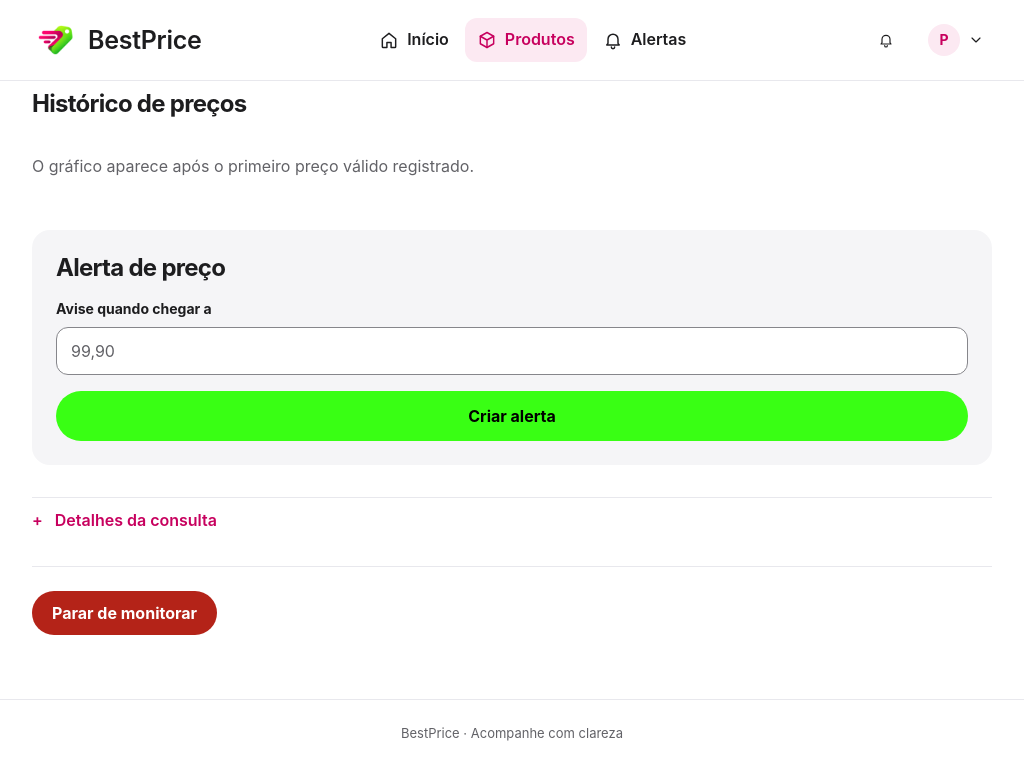
Test: confirma interrupção no detalhe e leva a Produtos com foco na lista
This screenshot has width=1024, height=768.
(page scrolled)
Click the button "Parar de monitorar".
click(125, 613)  # box [32,591,217,635]
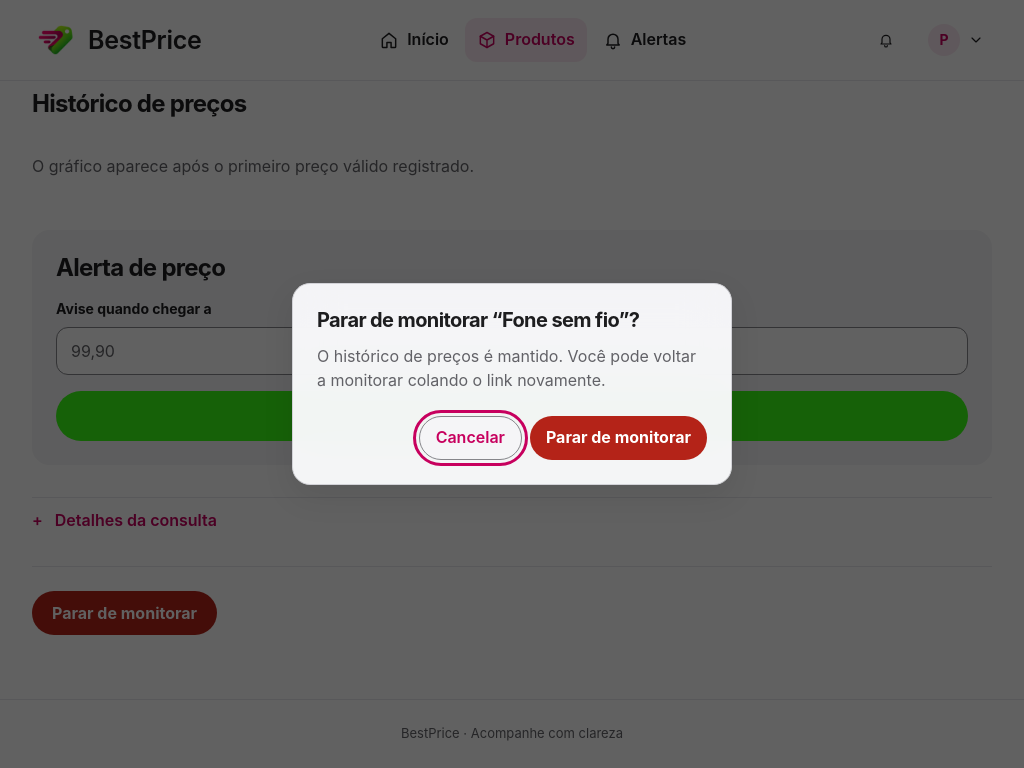
expect the dialog shows "Parar de monitorar “Fone sem fio”?": met, box [292,283,732,485]
Click the button "Cancelar".
click(470, 438)  # box [419,416,522,460]
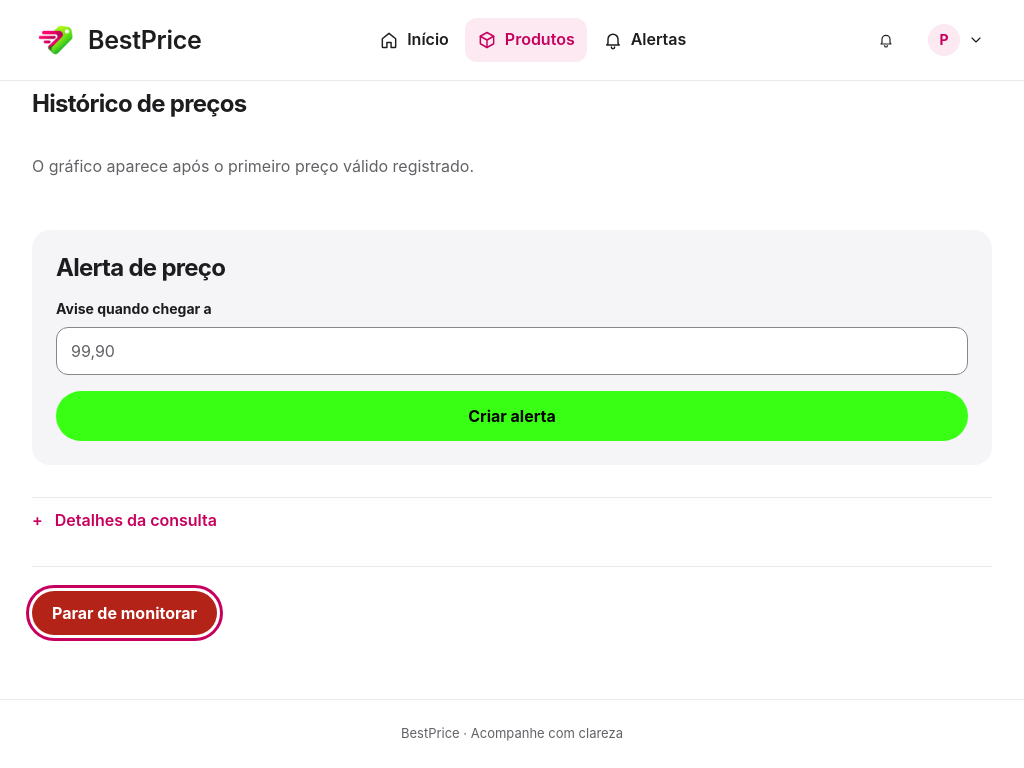
Click the button "Parar de monitorar".
click(125, 613)  # box [32,591,217,635]
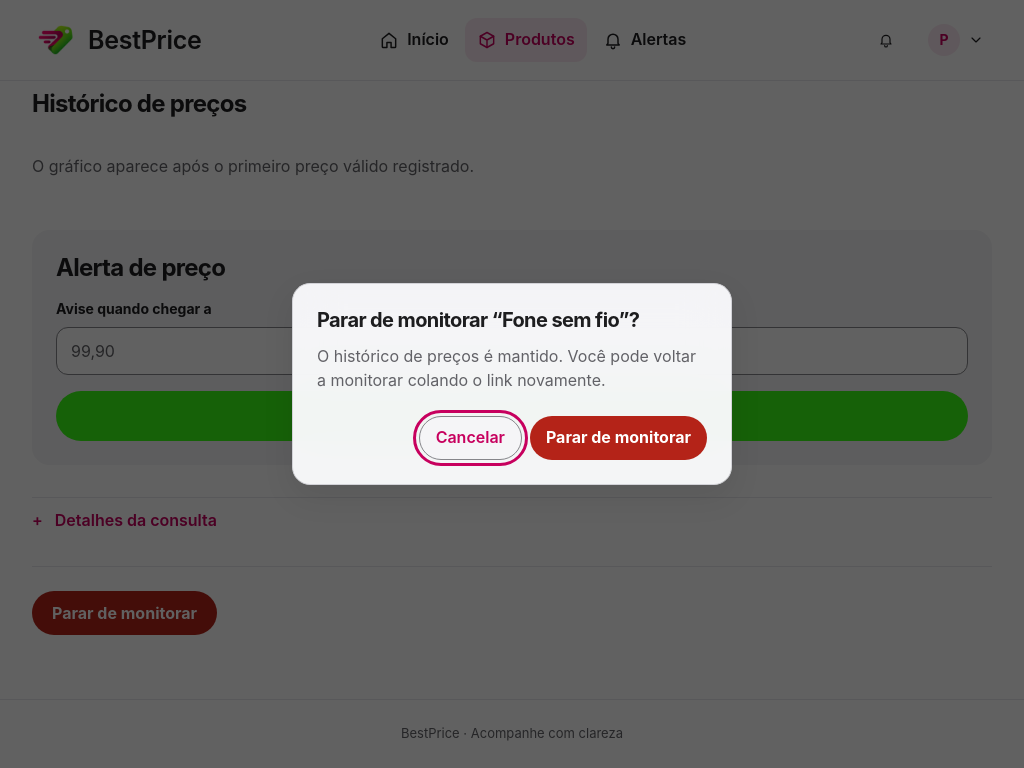
Click the button "Parar de monitorar".
click(618, 438)  # box [530,416,707,460]
(page scrolled)
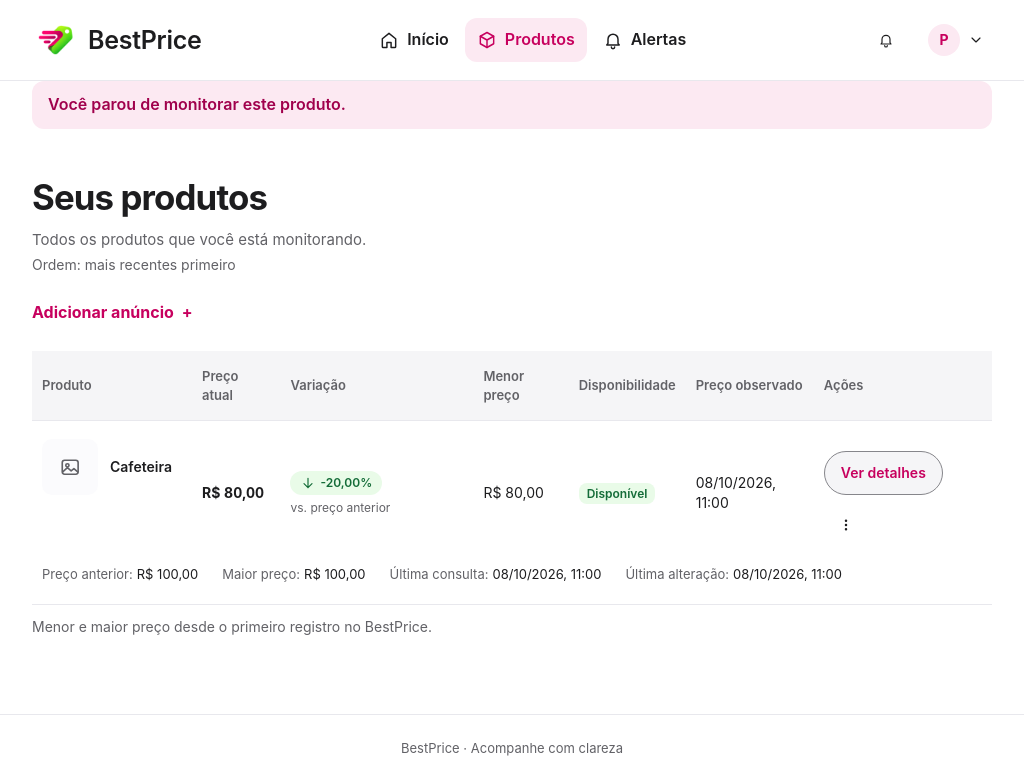
expect the message with test id "global-status" reads "Você parou de monitorar este produto.": met, box [48,94,346,114]
